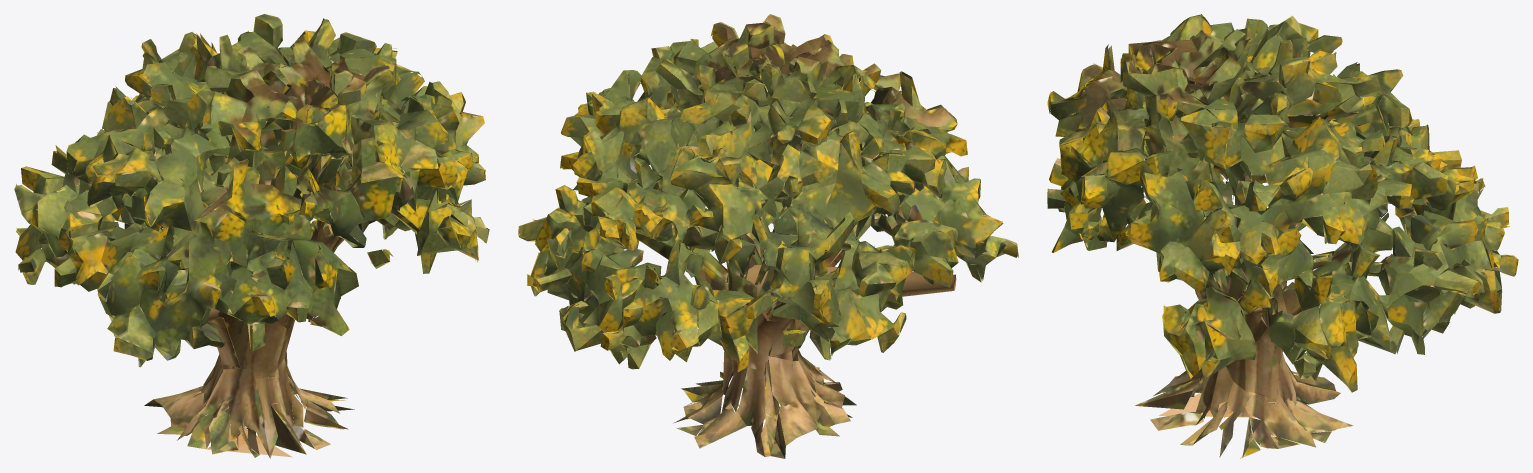
Rendered from turtle-prop-narra-tree.glb.
3 views of the same model, side by side, from view 1: azimuth 30°, elevation 25°; view 2: azimuth 150°, elevation 25°; view 3: azimuth 270°, elevation 25° (orthographic). The views are drawn at different scales.
Parts seen in each view (by area): view 1: Mesh_0; view 2: Mesh_0; view 3: Mesh_0.
Boxes of the visible parts, <box> form: Mesh_0: <box>14,14,489,458</box>; Mesh_0: <box>518,14,1018,458</box>; Mesh_0: <box>1047,14,1518,458</box>.
Size of the model in its own units: 0.6381 by 0.55 by 0.6106.
1 material, 1 textured.
